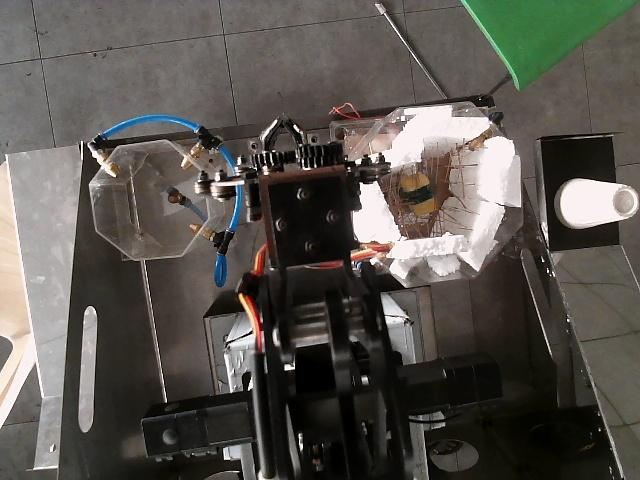cup: (555, 178, 638, 228)
